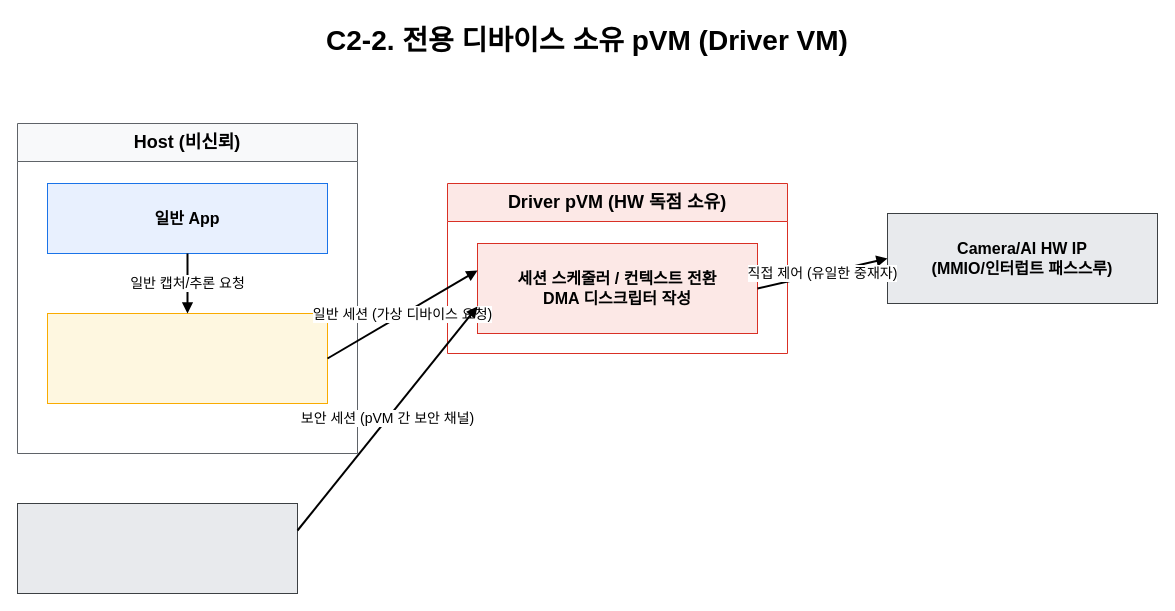
The diagram is 1175 pixels wide and 611 high, and some of its shapes have lost their labels. The centre of each missing label's shape, as x and y in pixels:
"Secure Camera/AI pVM" belongs at point 157,548.
"가상 디바이스 프론트엔드 (일반 기능용)" belongs at point 187,358.
